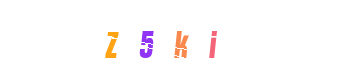5: (106, 0, 186, 80)
I: (148, 0, 228, 80)
K: (130, 0, 210, 80)
Z: (71, 0, 151, 80)
